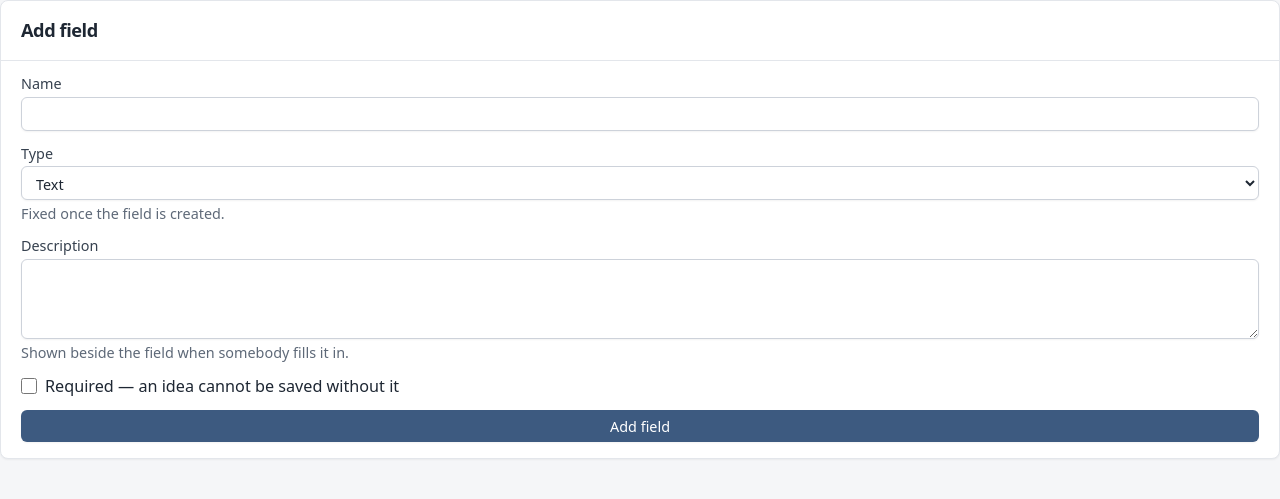
Scenario: refusals › render the name message beside the Name control
Step 1. Type "Dup" into the field labelled "Name" → (640, 114), box 21,97 -> 1259,131
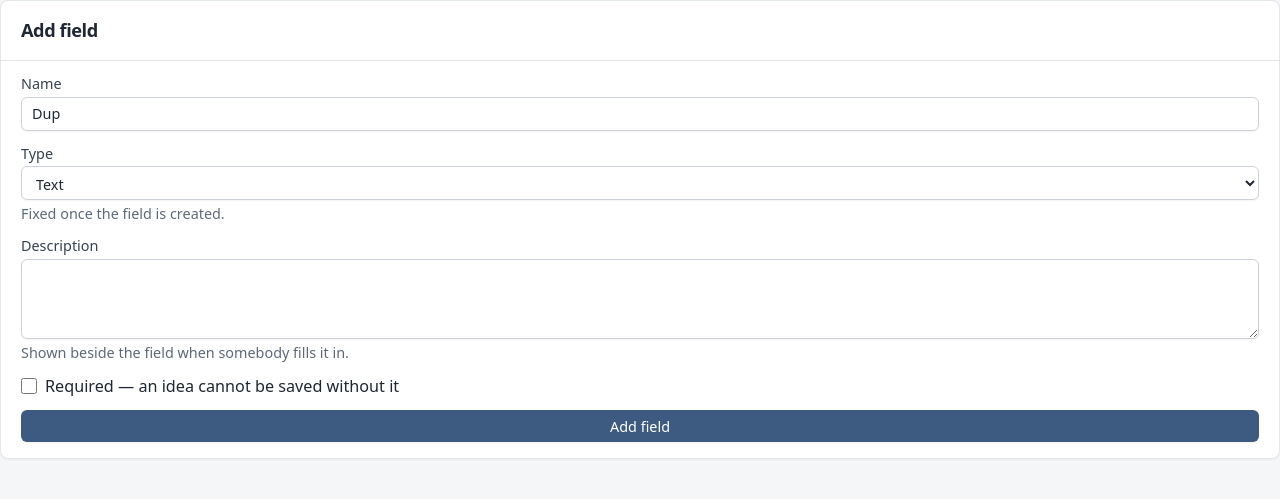
Step 2. Submit the form named "Add field"
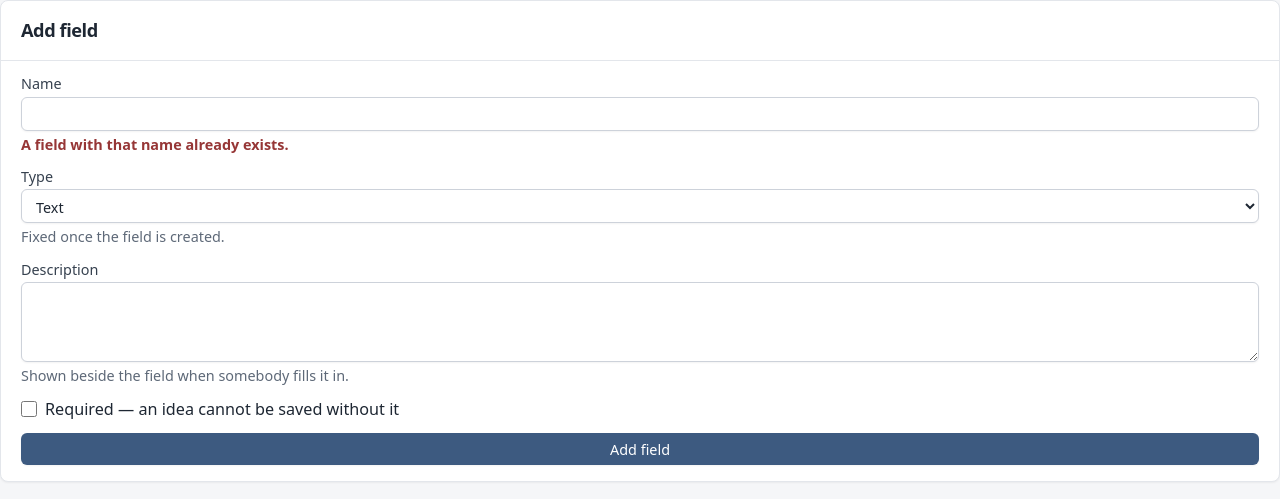
Expected: the text "A field with that name already exists." is shown, 21,135 -> 289,154
